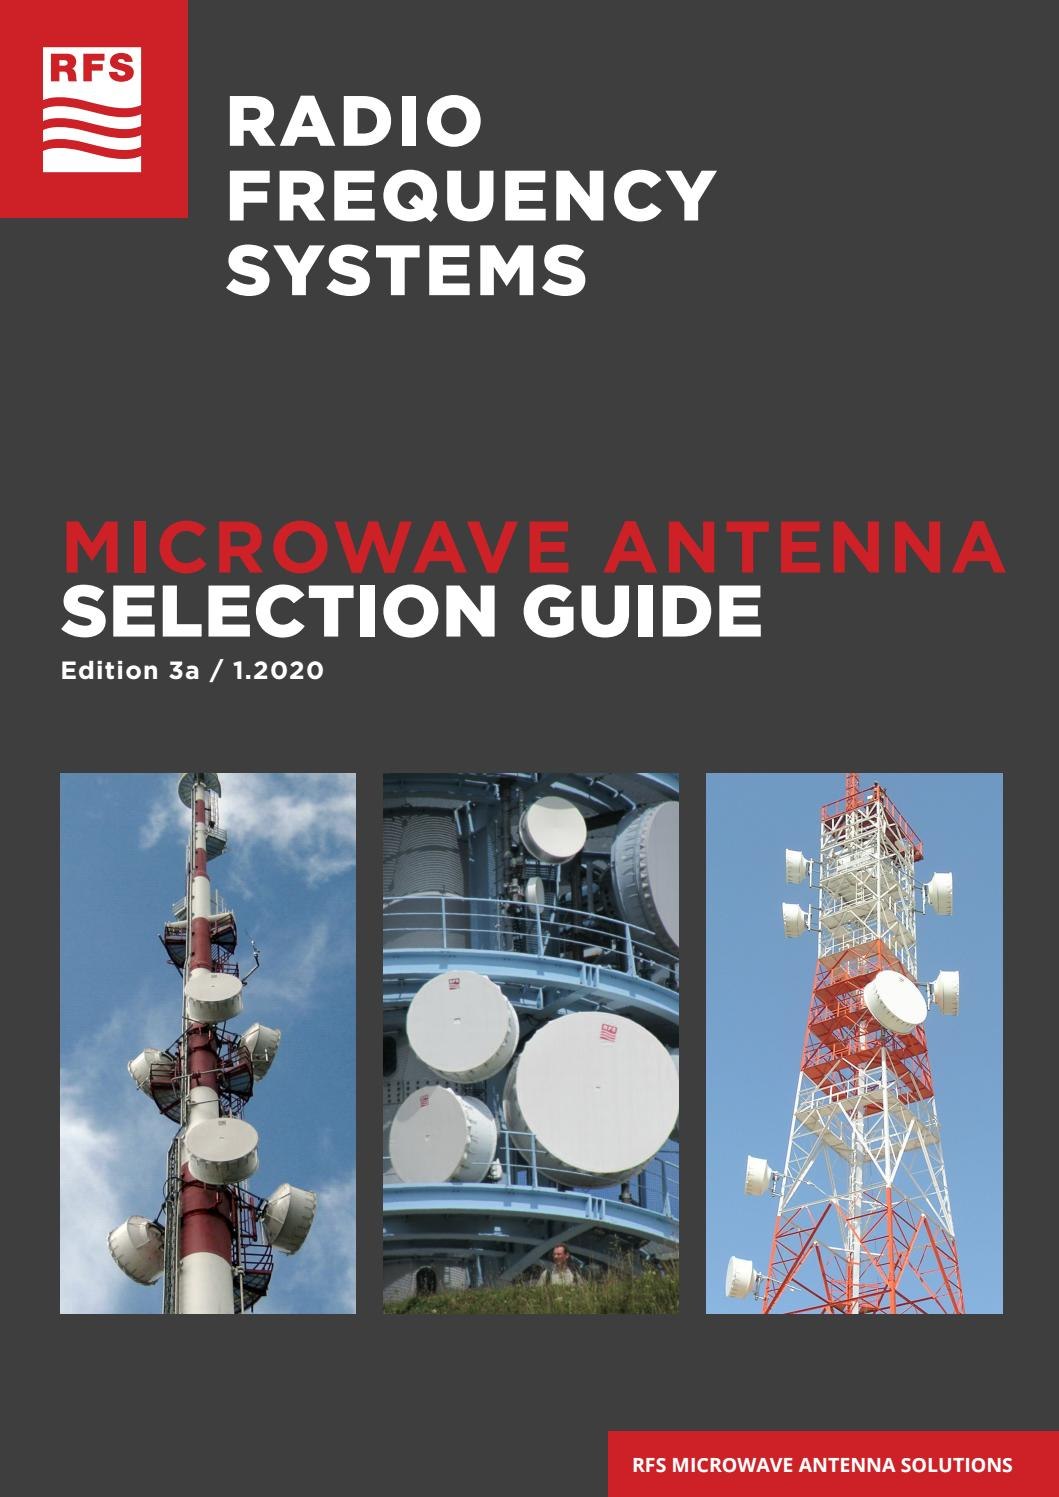ba: (525, 994, 695, 1229), (386, 1063, 486, 1200), (402, 953, 508, 1081), (505, 782, 595, 883), (832, 962, 921, 1043), (99, 1205, 173, 1286), (724, 1135, 784, 1222), (186, 1102, 250, 1168), (193, 957, 257, 1019), (732, 1228, 775, 1311), (777, 820, 819, 891)
